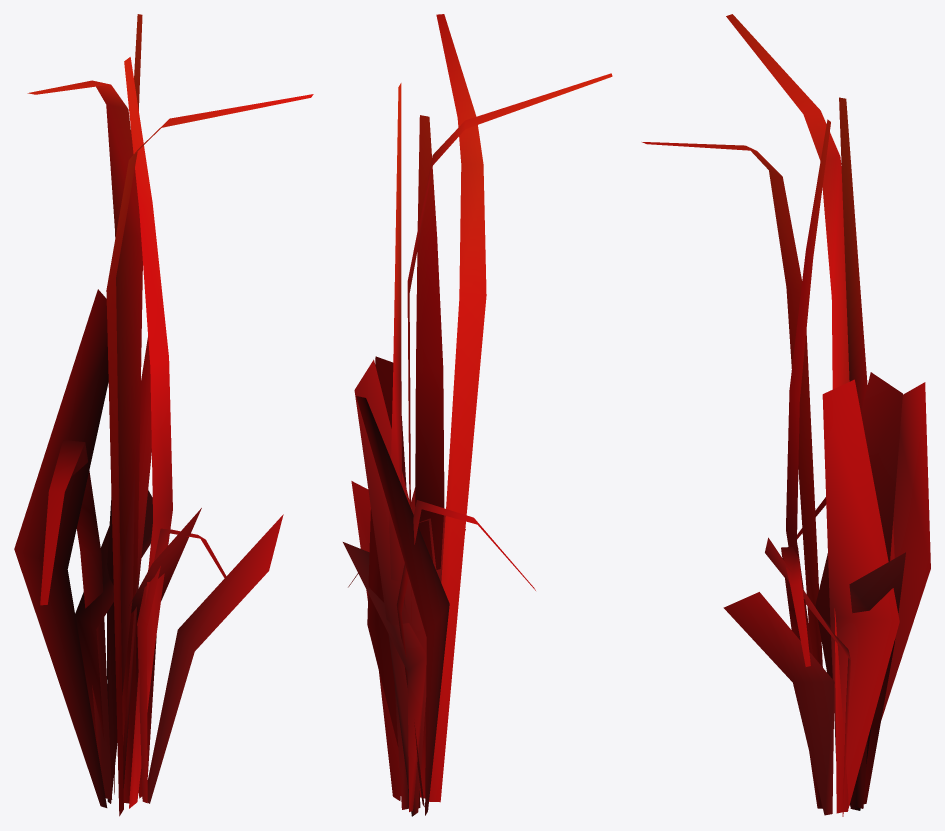
File: SM_RicePlants_4.fbx
3 views of the same model, side by side, from view 1: azimuth 30°, elevation 25°; view 2: azimuth 150°, elevation 25°; view 3: azimuth 270°, elevation 25° (orthographic). The views are drawn at different scales.
Visible parts, largest first — view 1: SM_RicePlants_4; view 2: SM_RicePlants_4; view 3: SM_RicePlants_4.
Boxes of the visible parts, left/top/right/bottom form: SM_RicePlants_4: left=14, top=14, right=313, bottom=816; SM_RicePlants_4: left=343, top=14, right=612, bottom=816; SM_RicePlants_4: left=642, top=14, right=930, bottom=816.
Size of the model in its own units: 0.3049 by 0.8552 by 0.3079.
